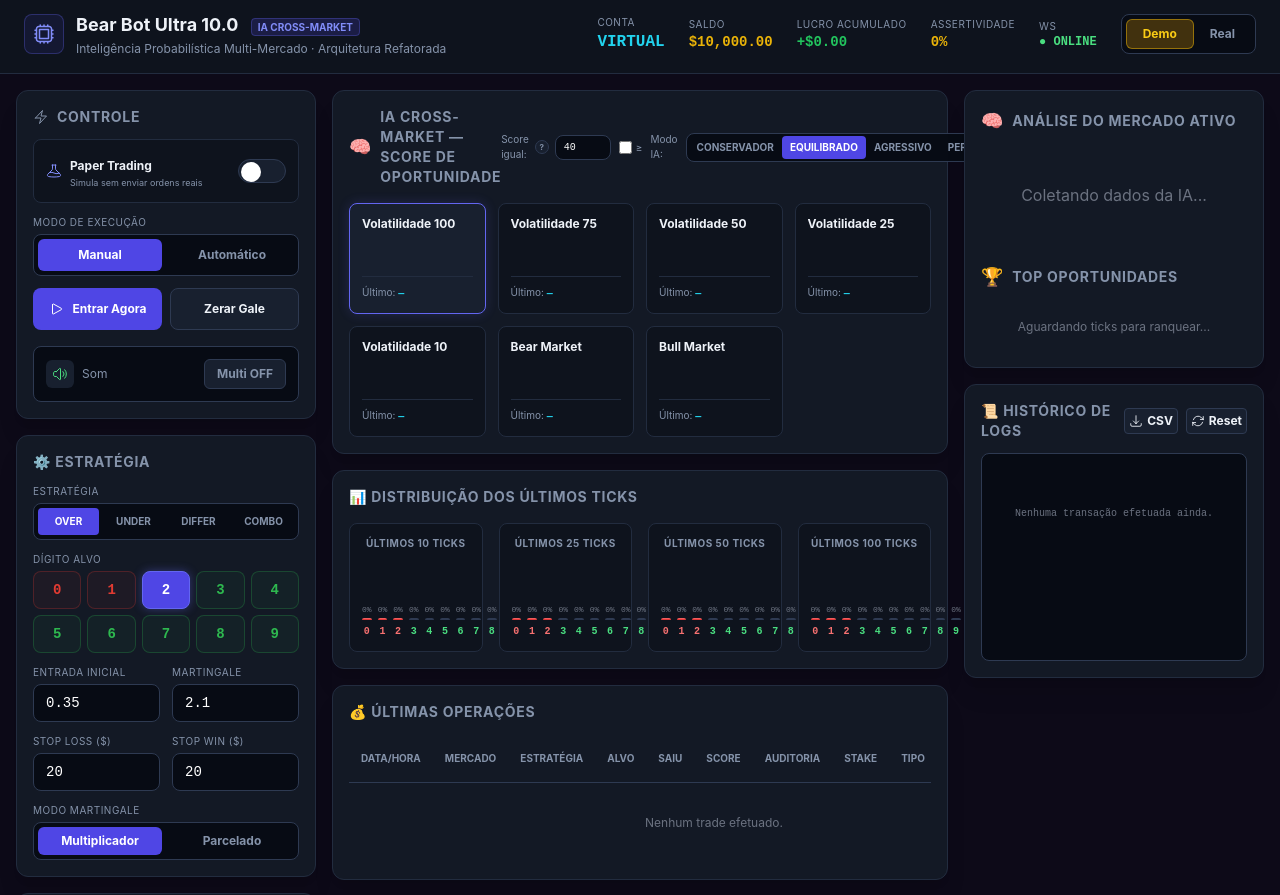
Test: BearBotUltra2 UI - Dígito Automático › exibe o switch de Dígito Automático quando modo differ e loss virtual estiverem ativos
Expected: the text "Dígito Automático" is not shown
Clica em 'differ'
Click the button "differ". click: (198, 521)
box: x1=168 y1=508 x2=229 y2=534
(page scrolled)
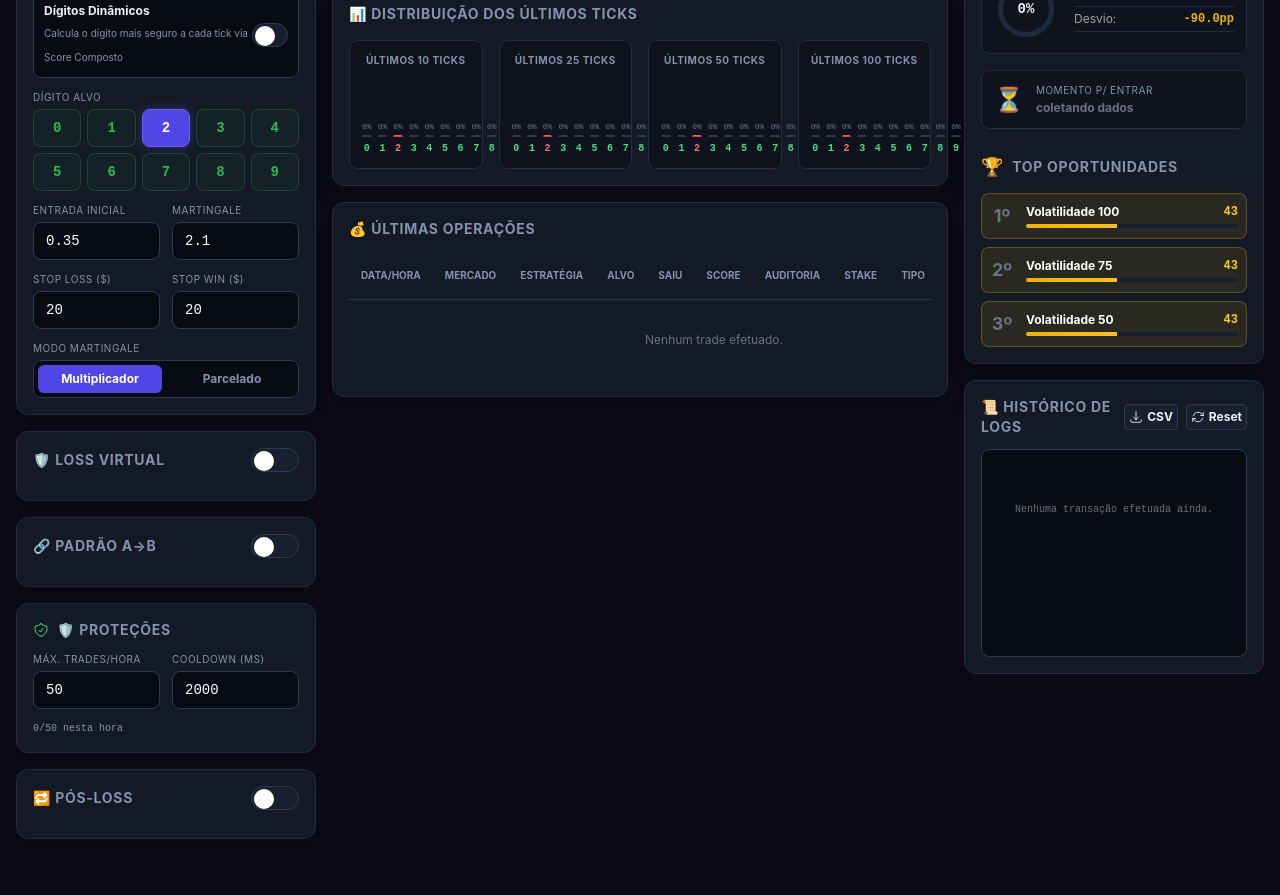
Expected: the text "Dígito Automático" is not shown
Ativa Loss Virtual
Click the button with test id "toggle-loss-virtual". click: (275, 460)
box: x1=251 y1=448 x2=299 y2=472
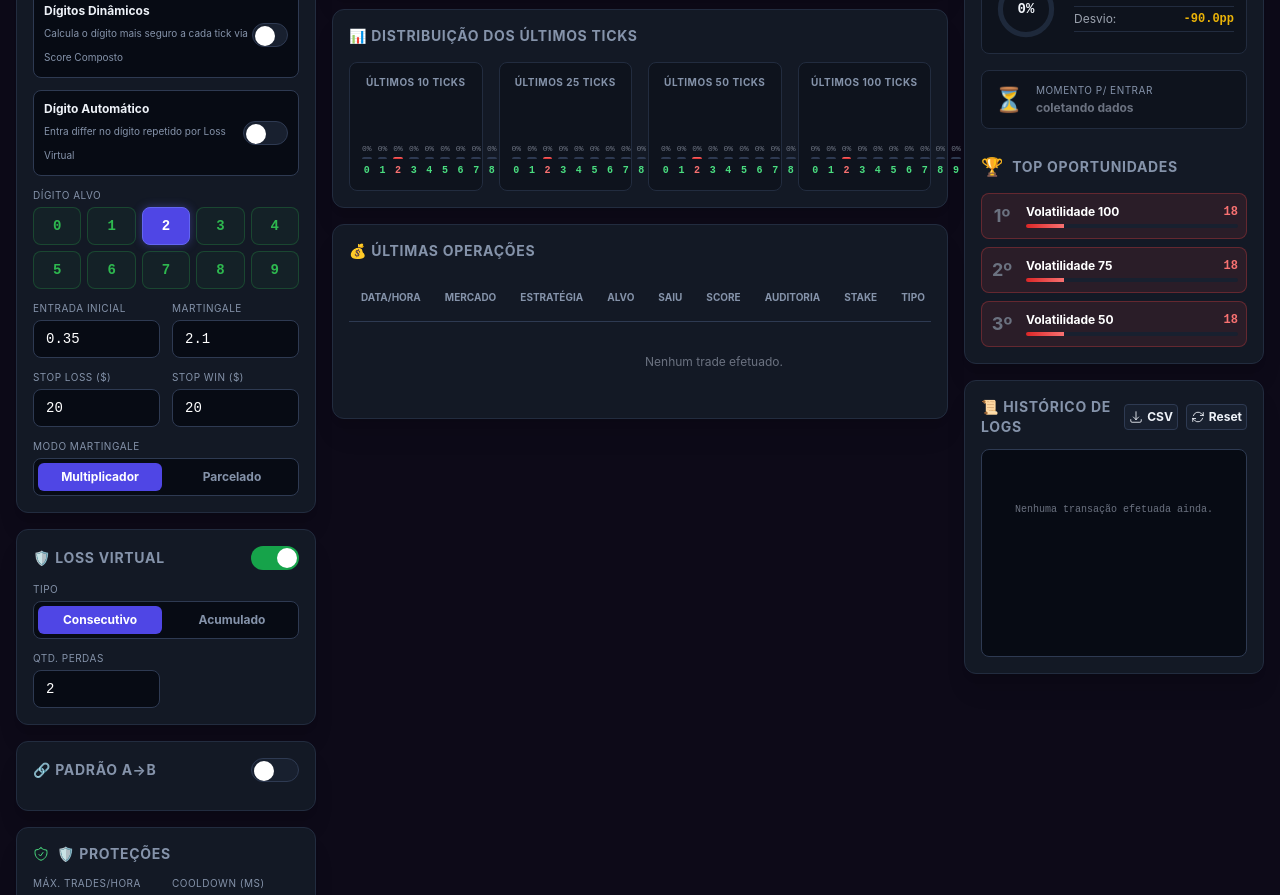
Expected: the text "Dígito Automático" is shown, x1=44 y1=100 x2=149 y2=116
